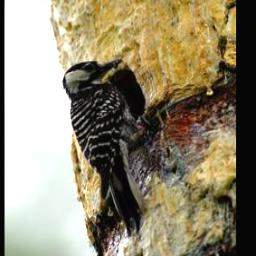Woodpecker: (61, 57, 163, 239)
